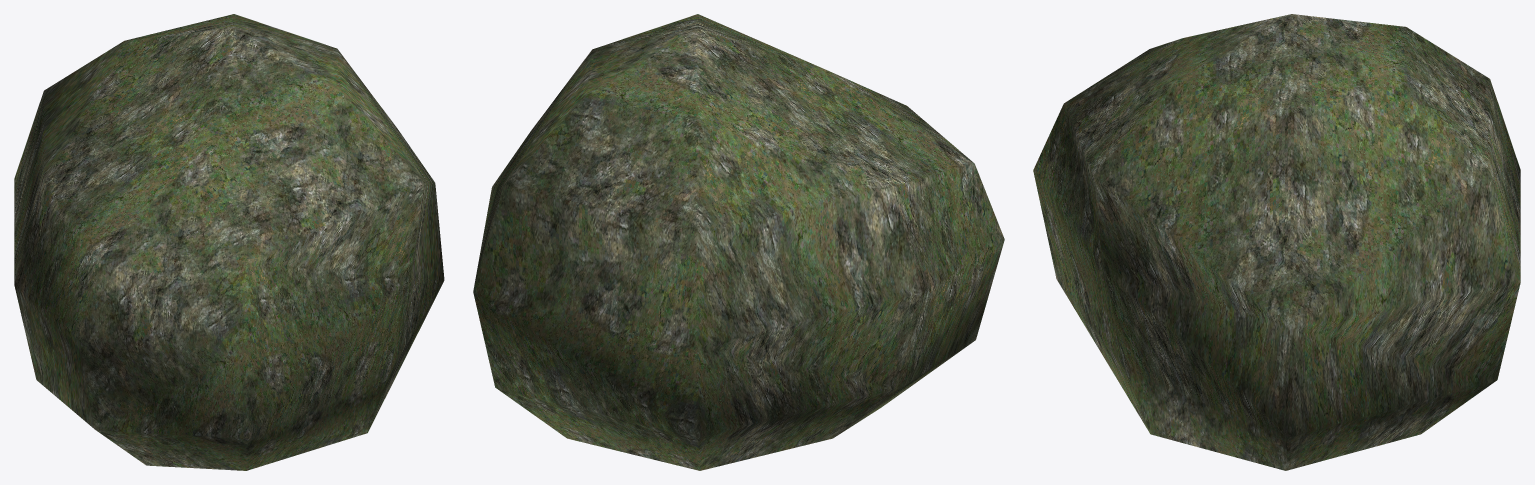
File: mtns_rock_moss_a6_l0.fbx
The picture shows the model from 3 angles, left to right: view 1: azimuth 30°, elevation 25°; view 2: azimuth 150°, elevation 25°; view 3: azimuth 270°, elevation 25°; orthographic projection. The views are drawn at different scales.
Parts seen in each view (by area): view 1: mesh_node; view 2: mesh_node; view 3: mesh_node.
Part boxes in pixels (<box>): mesh_node: <box>14,14,444,470</box>; mesh_node: <box>473,14,1004,470</box>; mesh_node: <box>1033,14,1520,470</box>.
Size of the model in its own units: 1.99 by 1.61 by 1.84.
